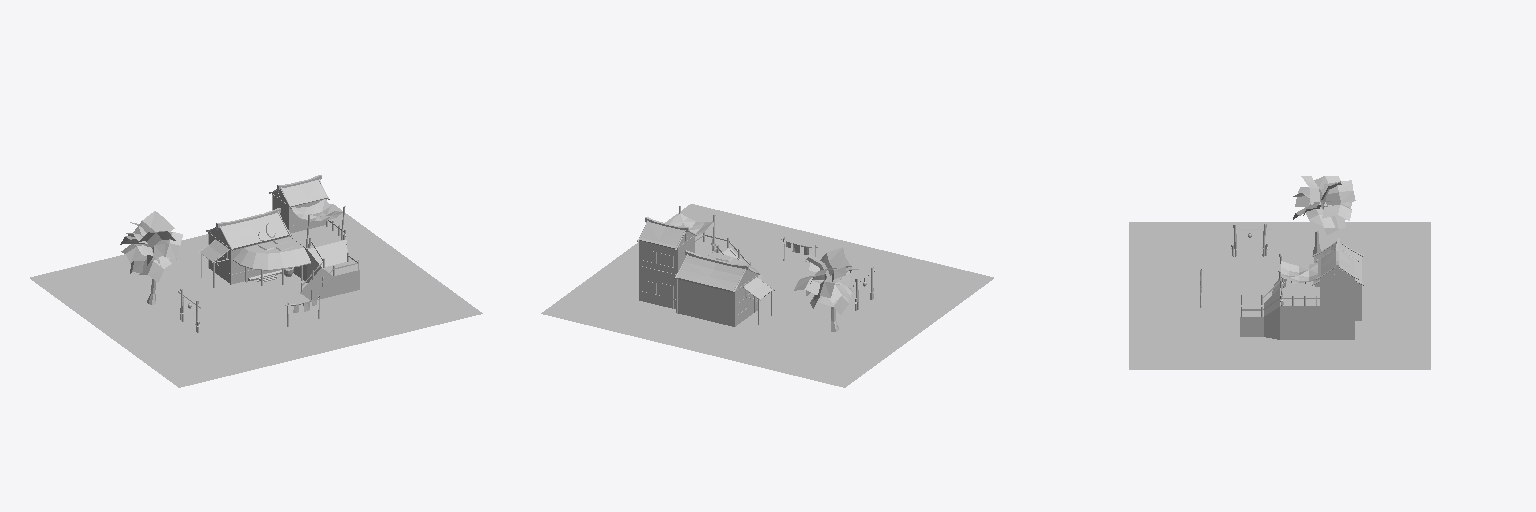
File: little house.obj
3 renders of one model, left to right at view 1: azimuth 30°, elevation 25°; view 2: azimuth 150°, elevation 25°; view 3: azimuth 270°, elevation 25°, orthographic.
Parts seen in each view (by area): view 1: Plane01; view 2: Plane01; view 3: Plane01.
Boxes of the visible parts, x1,y1,x2,y2 form: Plane01: [30, 175, 482, 387]; Plane01: [541, 204, 993, 387]; Plane01: [1129, 176, 1430, 369].
Bounding box in the file's own units: 59.62 × 14.91 × 51.1.